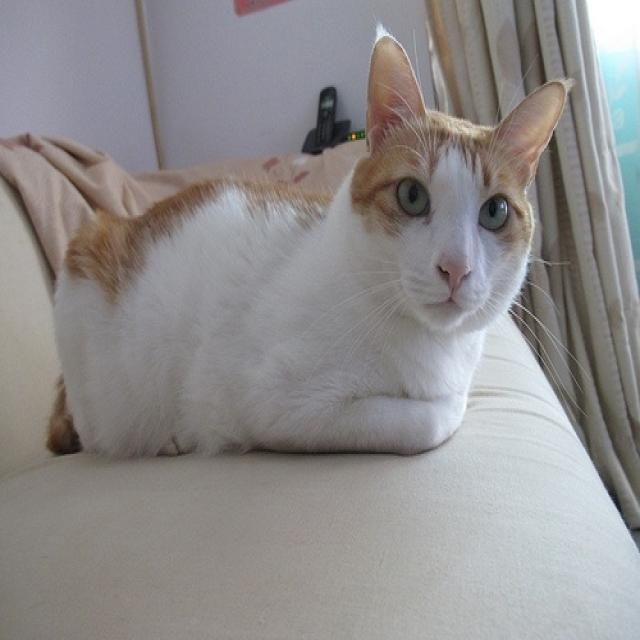Left_ear: (497, 63, 570, 181)
Left_eye: (478, 191, 512, 237), (439, 257, 473, 292)
Right_ear: (366, 31, 429, 151)
Right_eye: (392, 173, 434, 222)
